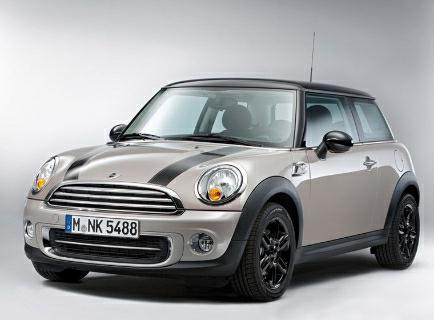MINI: (19, 54, 425, 291)
